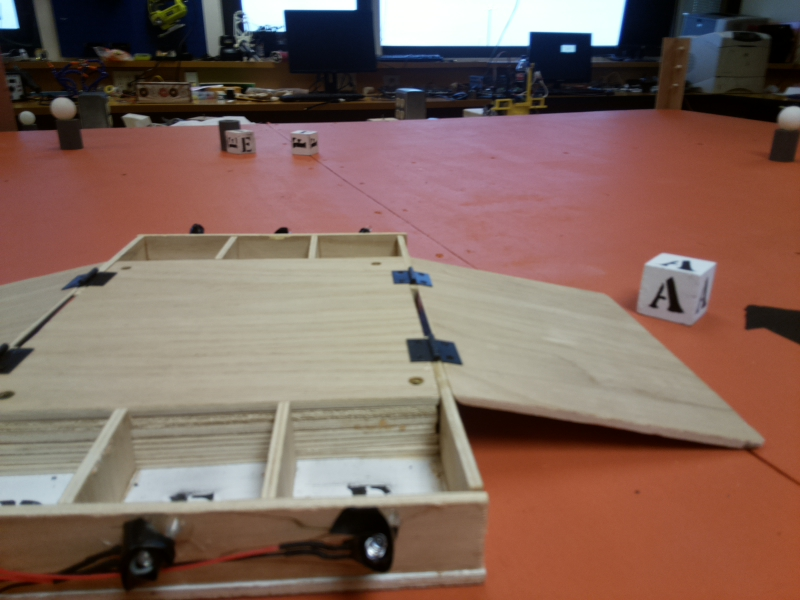blockA: (638, 255, 715, 322)
blockE: (221, 127, 253, 163)
blockF: (289, 130, 315, 157)
corner: (656, 38, 693, 107)
obstacle: (51, 97, 81, 153), (771, 106, 800, 159)
side: (38, 488, 485, 600)
slope: (403, 255, 756, 459)
start: (739, 292, 800, 351)
